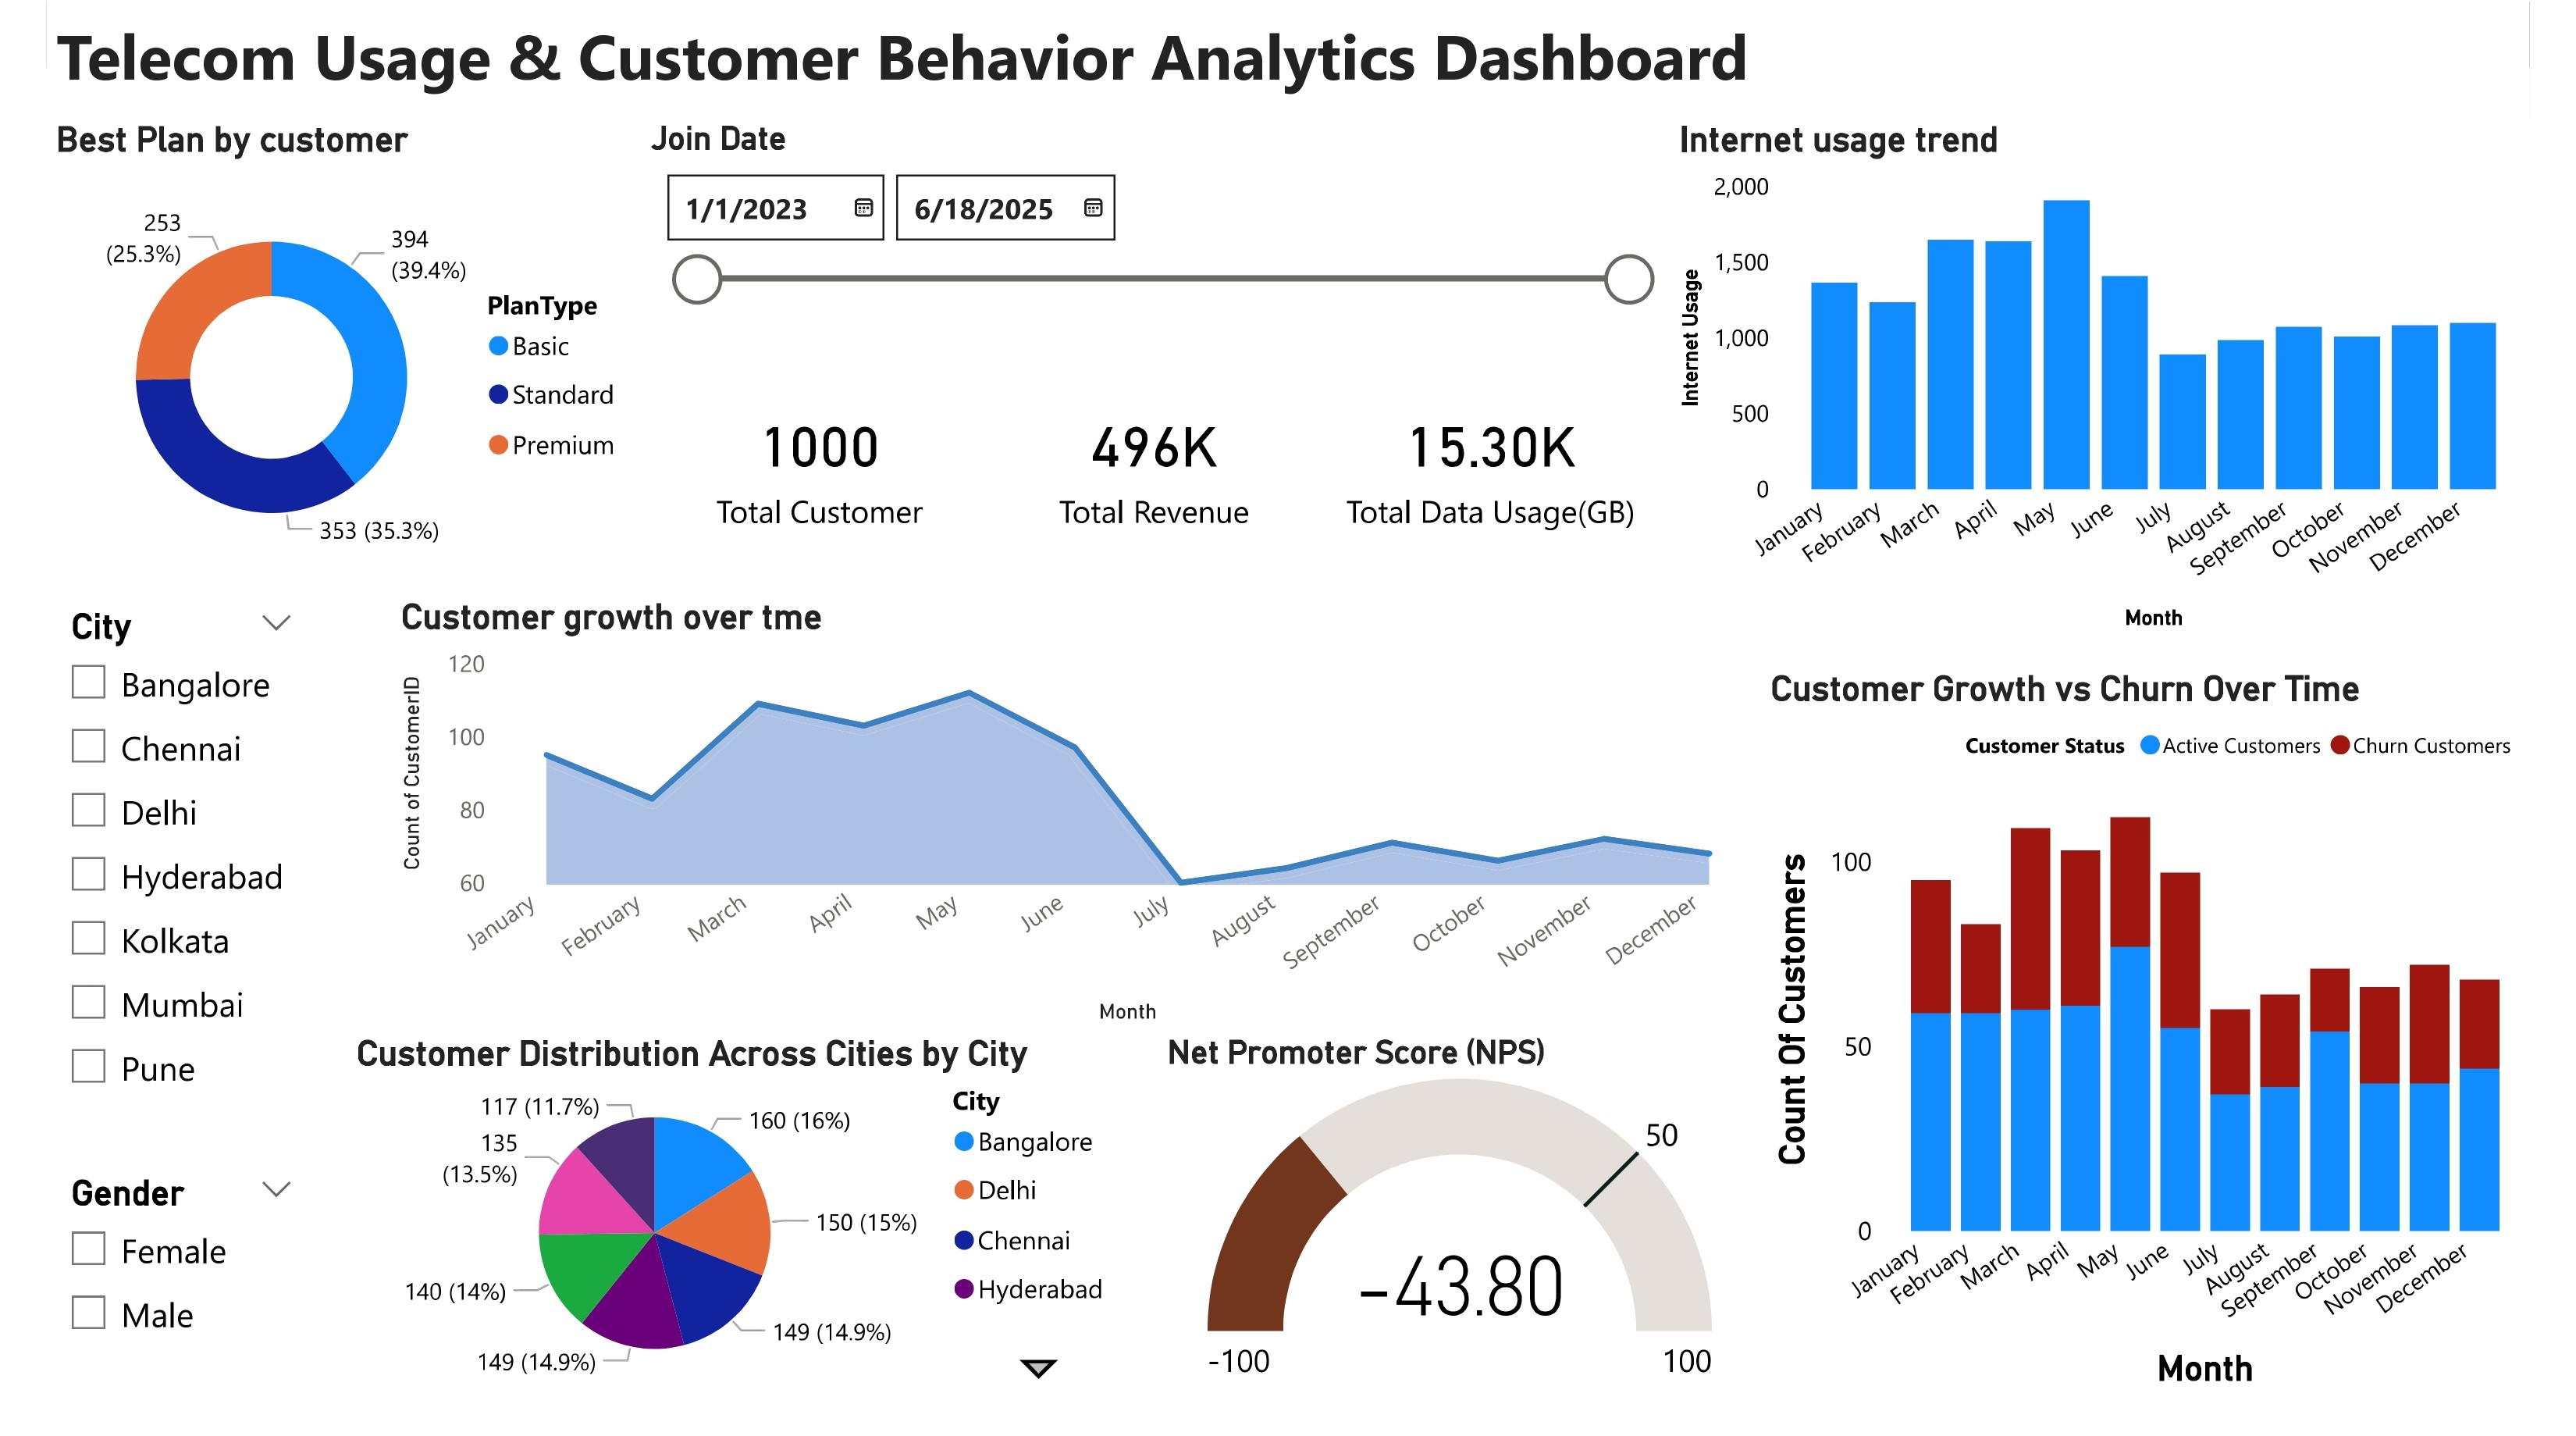

The page's visual inventory and layout, read from the dashboard file:
{"tool":"powerbi","page":{"name":"Page 1","canvas":[1280,720],"ordinal":0},"visuals":[{"type":"textbox","box":[0,0,903.7,60.5],"z":0},{"type":"donutChart","title":"Best Plan by customer","fields":{"Category":["telecom_usage_dataset_1000_rows.PlanType"],"Y":["CountNonNull(telecom_usage_dataset_1000_rows.CustomerID)"]},"box":[0,60.5,307.4,245.2],"z":1000},{"type":"areaChart","title":"Customer growth over tme","fields":{"Category":["telecom_usage_dataset_1000_rows.JoinDate.Variation.Date Hierarchy.Month"],"Y":["CountNonNull(telecom_usage_dataset_1000_rows.CustomerID)"]},"box":[178.1,305.7,705.5,225.1],"z":2000},{"type":"clusteredColumnChart","title":"Internet usage trend","fields":{"Category":["telecom_usage_dataset_1000_rows.JoinDate.Variation.Date Hierarchy.Month"],"Y":["Sum(telecom_usage_dataset_1000_rows.DataUsageGB)"]},"box":[836.5,60.5,443.5,267.1],"z":3000},{"type":"slicer","fields":{"Values":["telecom_usage_dataset_1000_rows.City"]},"box":[0,305.7,139.4,292.3],"z":4000},{"type":"slicer","fields":{"Values":["telecom_usage_dataset_1000_rows.Gender"]},"box":[0,598,139.4,119.3],"z":5000},{"type":"slicer","title":"Join Date","fields":{"Values":["telecom_usage_dataset_1000_rows.JoinDate"]},"box":[307.4,60.5,529.1,109.2],"z":6000},{"type":"gauge","title":"Net Promoter Score (NPS)","fields":{"Y":["telecom_usage_dataset_1000_rows.NPS Score"],"MinValue":["telecom_usage_dataset_1000_rows.Min NPS"],"MaxValue":["telecom_usage_dataset_1000_rows.Max NPS"],"TargetValue":["telecom_usage_dataset_1000_rows.Target NPS"]},"box":[572.8,530.8,310.8,189.8],"z":7000},{"type":"card","fields":{"Values":["telecom_usage_dataset_1000_rows.Total Customer"]},"box":[307.4,169.7,183.1,136.1],"z":9000},{"type":"card","fields":{"Values":["telecom_usage_dataset_1000_rows.Total Revenue"]},"box":[490.5,169.7,161.3,136.1],"z":10000},{"type":"card","fields":{"Values":["Sum(telecom_usage_dataset_1000_rows.DataUsageGB)"]},"box":[651.8,169.7,184.8,136.1],"z":11000},{"type":"columnChart","title":"Customer Growth vs Churn Over Time","fields":{"Category":["telecom_usage_dataset_1000_rows.JoinDate.Variation.Date Hierarchy.Month"],"Y":["CountNonNull(telecom_usage_dataset_1000_rows.CustomerID)"],"Series":["telecom_usage_dataset_1000_rows.Customer Status"]},"box":[883.6,342.7,396.4,376.3],"z":12000},{"type":"pieChart","fields":{"Category":["telecom_usage_dataset_1000_rows.City"],"Y":["CountNonNull(telecom_usage_dataset_1000_rows.CustomerID)"]},"box":[154.5,530.8,404.8,186.5],"z":13000}]}

Visuals, with their boxes in screenshot pixels (x1, y1, x2, y2), scaled from the page's 1280x720 canvas onto the 2576x1436 screenshot:
textbox: (0,0,1819,121)
"Best Plan by customer" donutChart: (0,121,619,610)
"Customer growth over tme" areaChart: (358,610,1778,1059)
"Internet usage trend" clusteredColumnChart: (1684,121,2575,654)
slicer - telecom_usage_dataset_1000_rows.City: (0,610,280,1192)
slicer - telecom_usage_dataset_1000_rows.Gender: (0,1192,280,1431)
"Join Date" slicer: (619,121,1684,338)
"Net Promoter Score (NPS)" gauge: (1153,1059,1778,1435)
card - telecom_usage_dataset_1000_rows.Total Customer: (619,338,987,610)
card - telecom_usage_dataset_1000_rows.Total Revenue: (987,338,1311,610)
card - Sum(telecom_usage_dataset_1000_rows.DataUsageGB): (1311,338,1684,610)
"Customer Growth vs Churn Over Time" columnChart: (1778,683,2575,1434)
pieChart - telecom_usage_dataset_1000_rows.City x CountNonNull(telecom_usage_dataset_1000_rows.CustomerID): (311,1059,1126,1431)
